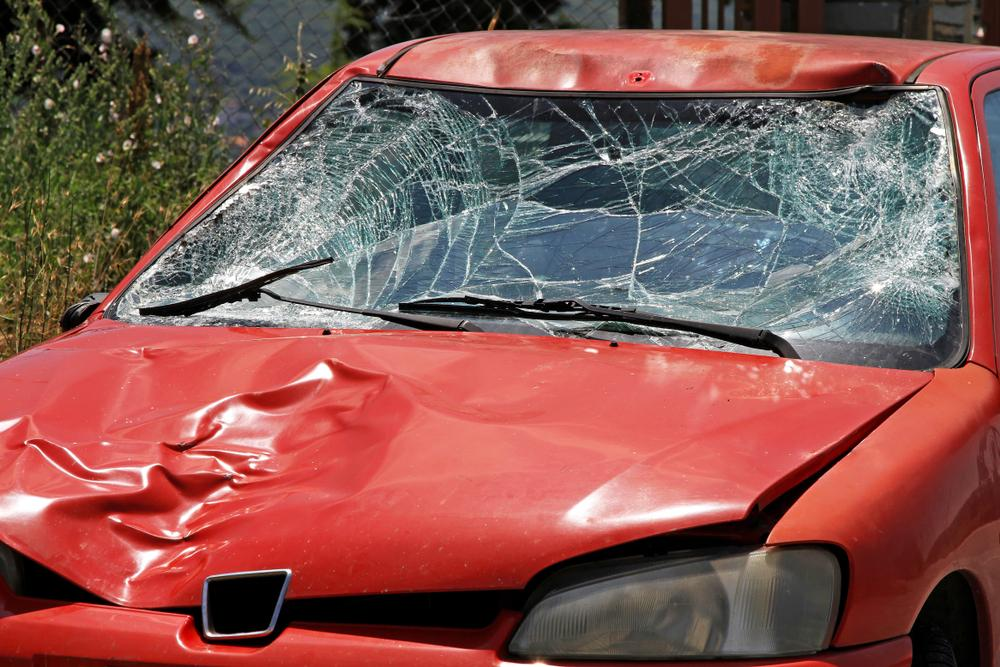dent: (0, 338, 775, 603), (439, 45, 901, 89)
glass shatter: (117, 80, 969, 370)
